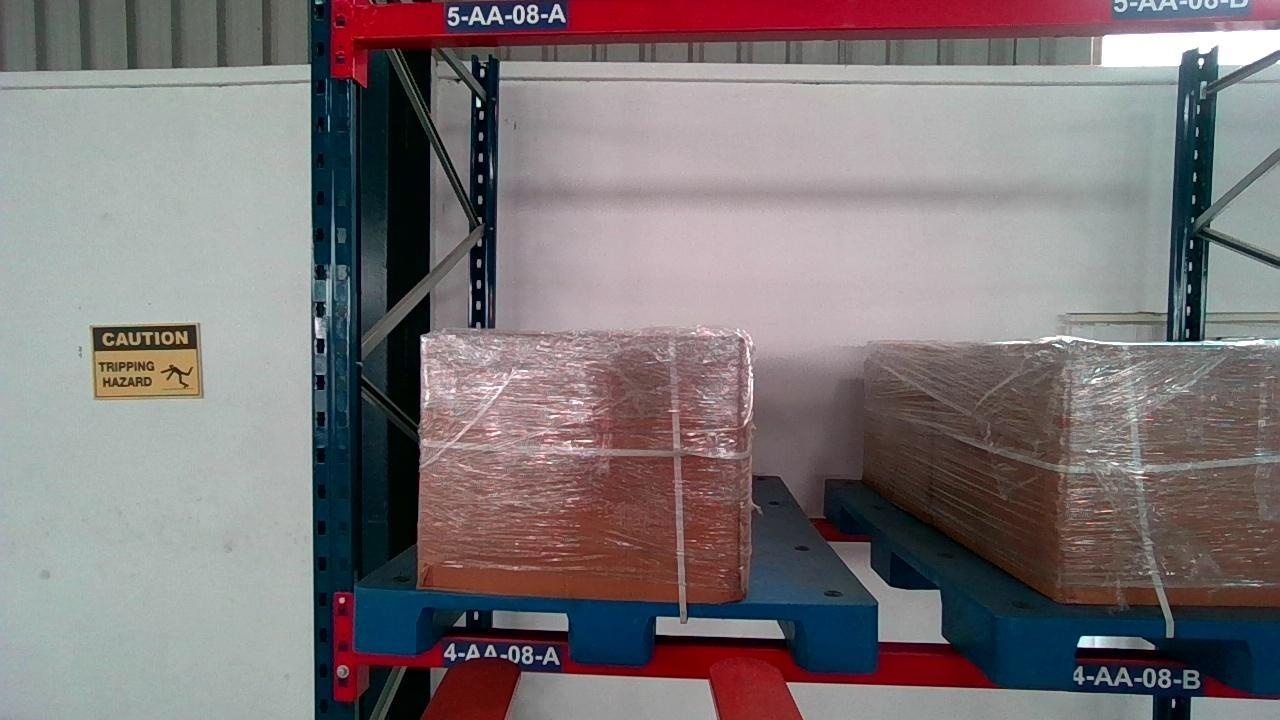h_rack: (352, 630, 1280, 699), (355, 0, 1280, 34)
small_pallet: (356, 586, 875, 673), (1005, 617, 1280, 699)
